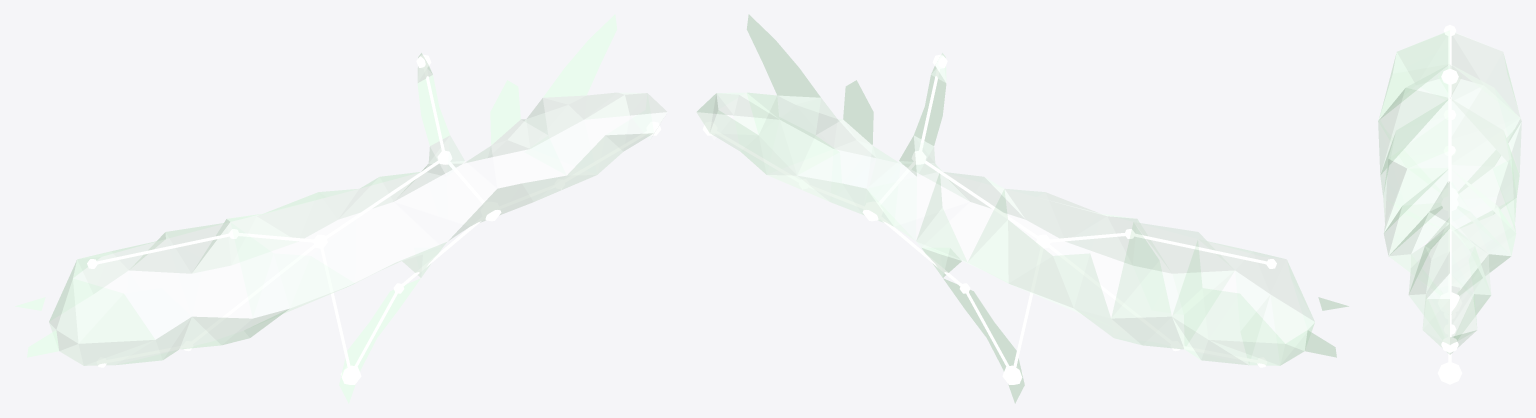
Rendered from 06_Virgo.glb.
3 views of the same model, side by side, from view 1: azimuth 30°, elevation 25°; view 2: azimuth 150°, elevation 25°; view 3: azimuth 270°, elevation 25° (orthographic). The views are drawn at different scales.
Parts seen in each view (by area): view 1: Virgo; view 2: Virgo; view 3: Virgo.
Part boxes in pixels (x1,y1,x2,y2): Virgo: (15,14,667,403); Virgo: (696,14,1348,403); Virgo: (1378,25,1521,384).
Size of the model in its own units: 1.74 by 0.8482 by 0.2909.
